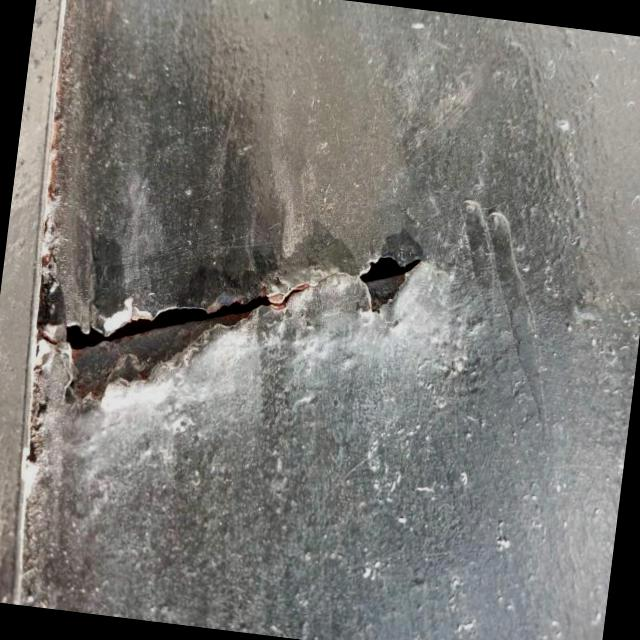defect: (57, 247, 428, 410)
